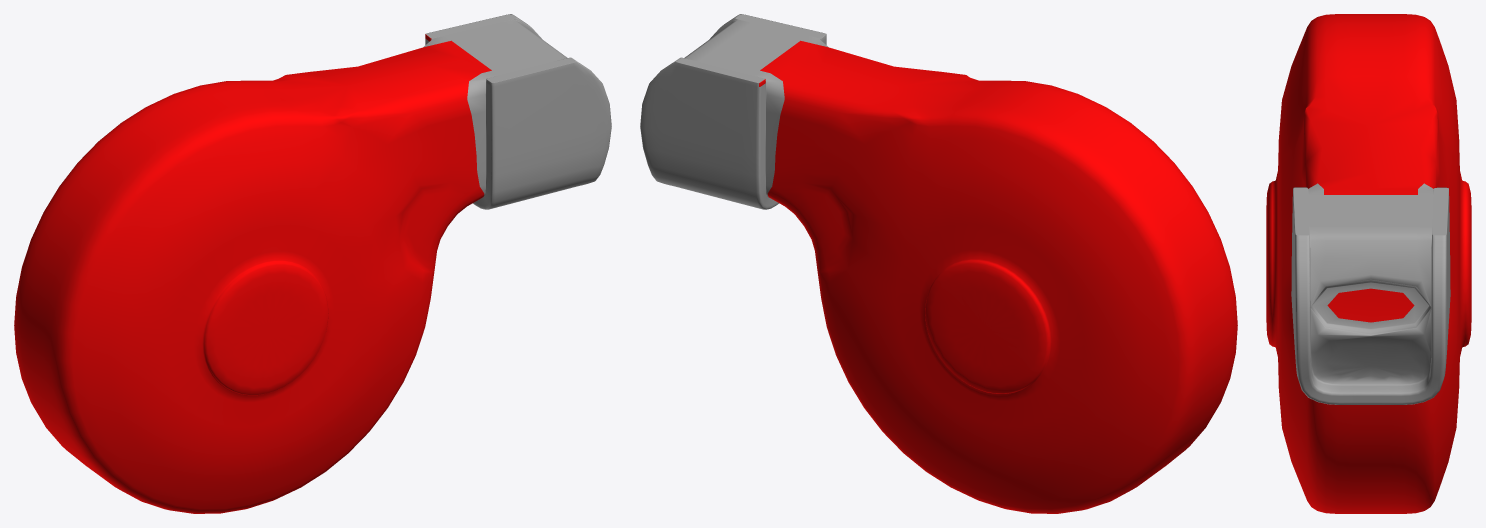
Rendered from ticket amchine.fbx.
3 renders of one model, left to right at view 1: azimuth 30°, elevation 25°; view 2: azimuth 150°, elevation 25°; view 3: azimuth 270°, elevation 25°, orthographic. The views are drawn at different scales.
Parts seen in each view (by area): view 1: pCylinder37; view 2: pCylinder37; view 3: pCylinder37.
Part boxes in pixels (box(x1,y1,x2,y2)): pCylinder37: box(14, 14, 611, 513); pCylinder37: box(640, 14, 1237, 513); pCylinder37: box(1266, 14, 1471, 513).
Bounding box in the file's own units: 42.97 × 29.69 × 12.21.
